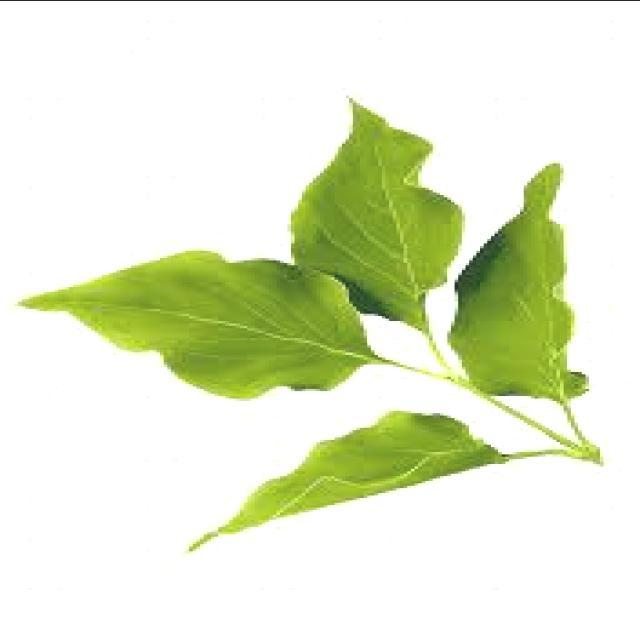banana_leaf: (17, 96, 603, 551)
leaf: (16, 247, 375, 400), (186, 409, 507, 552), (288, 95, 464, 332), (446, 161, 588, 403)
